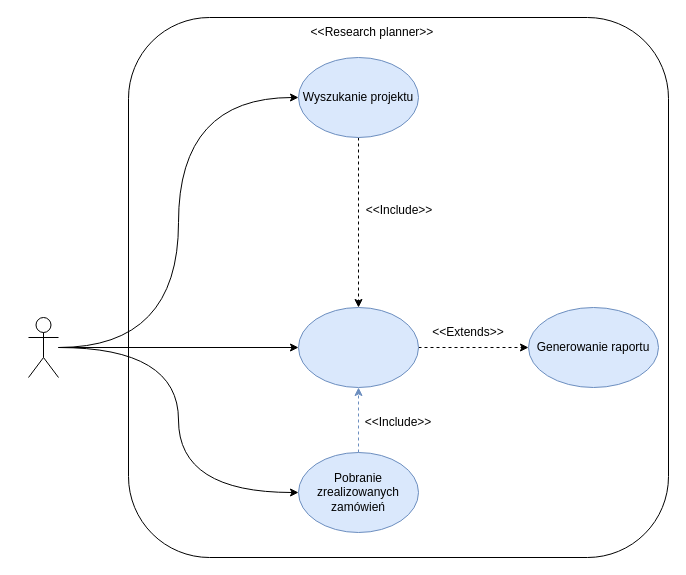
The diagram is 686 pixels wide and 575 high, and some of its shapes have lost their labels. Here are the shapes that lost their labels. From the top down, the centre of each, then its label:
the point at 43,347: Księgowa
the point at 358,347: Wyświetlenie szczegółów zamówienia
